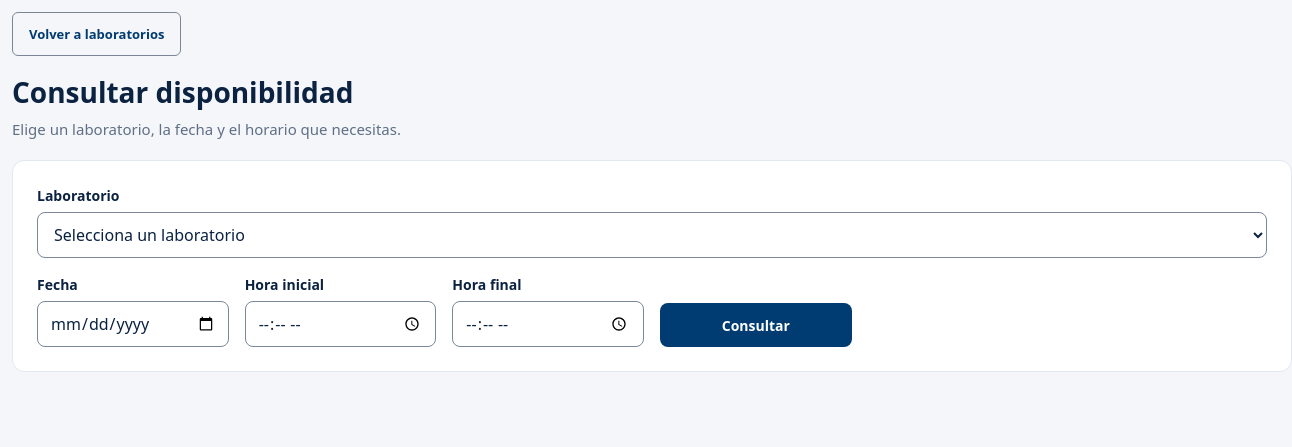
Scenario: envío vacío anuncia cuatro errores y los relaciona con sus campos
Click the button "Consultar": {"x": 756, "y": 325} [660,303,852,347]
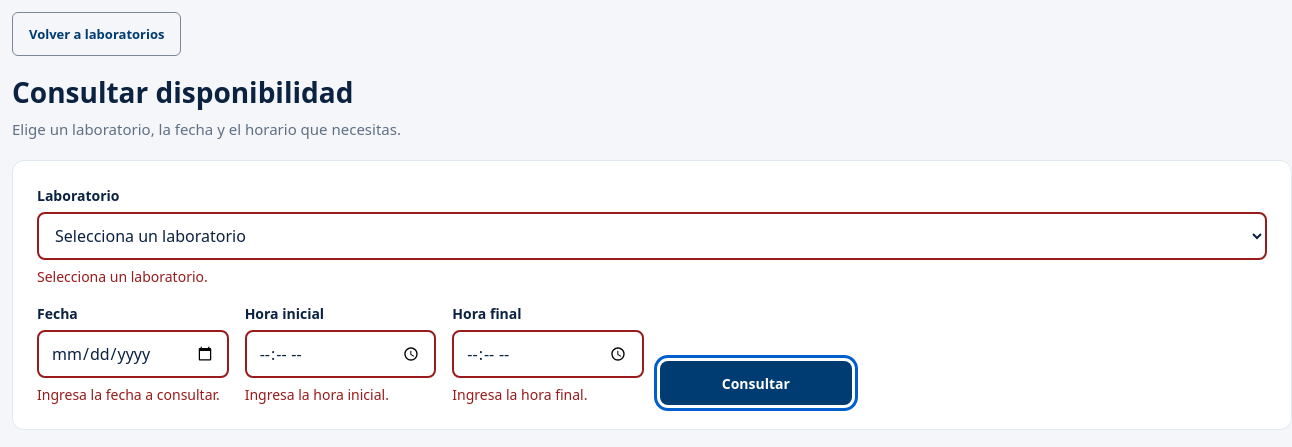
Now the number of messages is 4, box [37,267,208,286]; [37,384,229,405]; [245,385,389,404]; [452,385,587,404]
